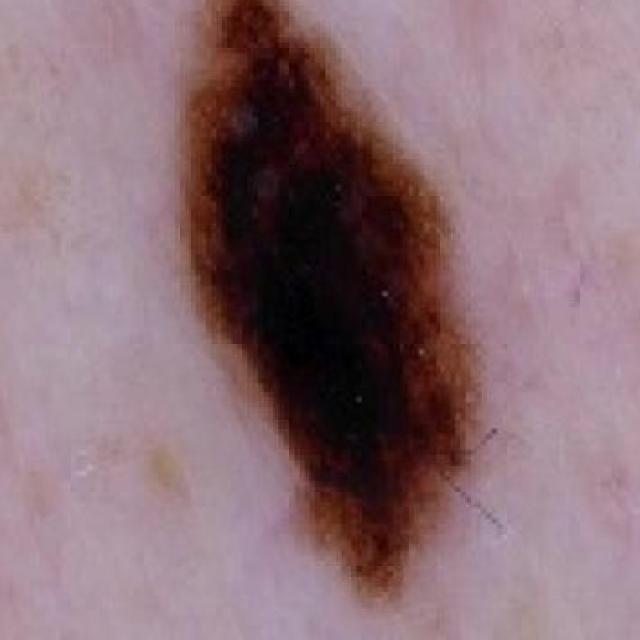MEL: (184, 0, 540, 618)
